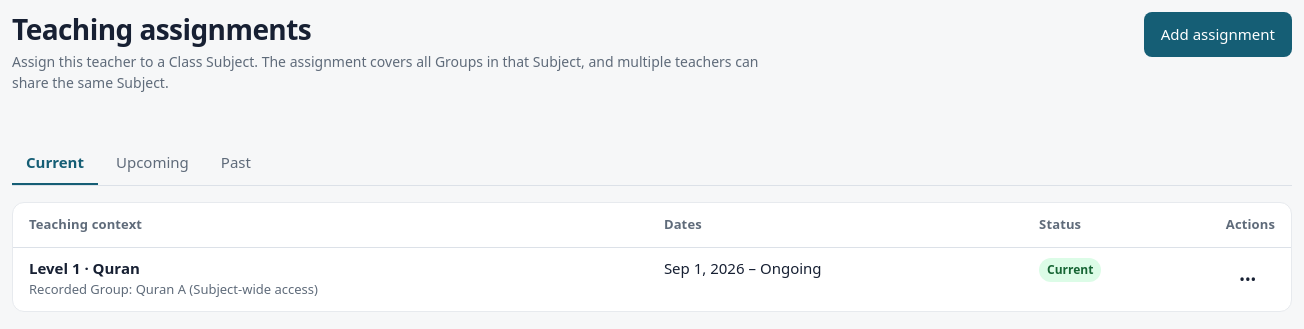
Test: teaching assignment workspace reference CRUD flow › keeps an archived recorded Group name readable in past assignments
Click the tab "Past" at (236, 163), box [207,141,265,185]
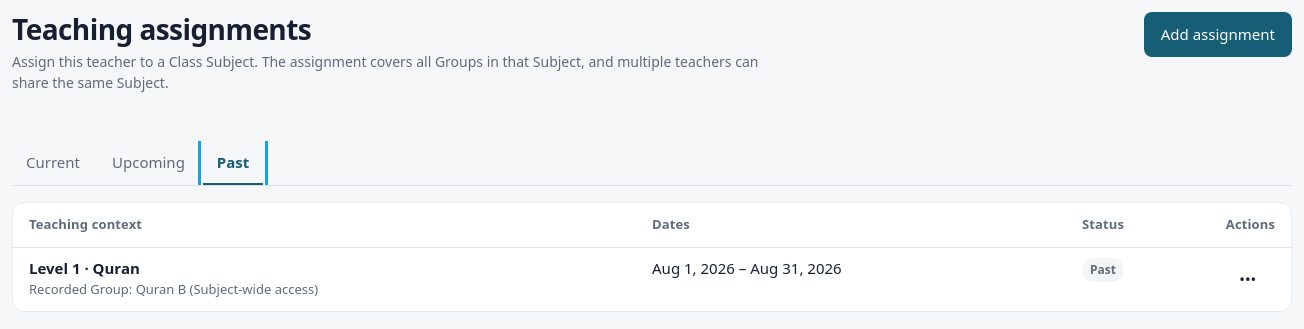
Expected: the text "Recorded Group: Quran B (Subject-wide access)" is shown, [29,280,318,298]
